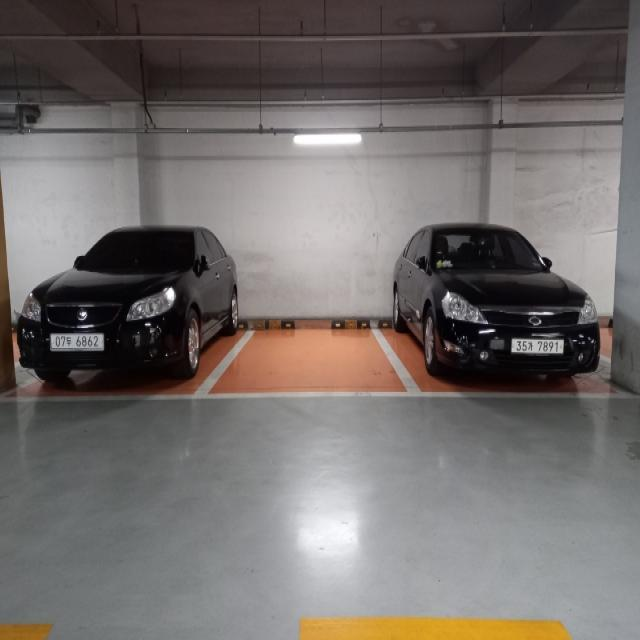empty: (196, 327, 416, 400)
occupied: (15, 227, 239, 389), (392, 223, 602, 381)
